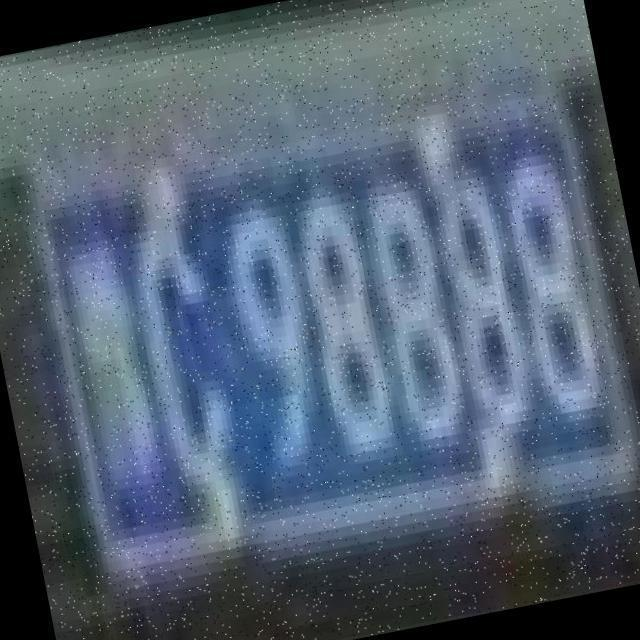License Plate: (8, 41, 640, 586)
